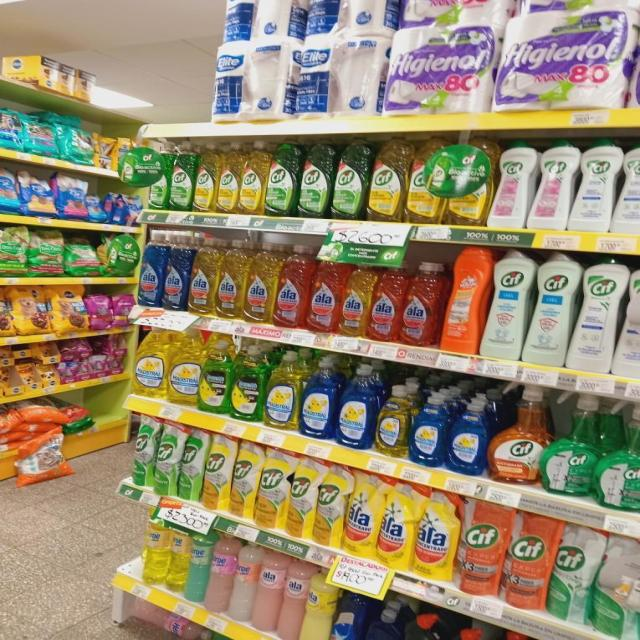ala_conc_amarillo: (246, 236, 276, 324), (217, 237, 246, 320), (341, 260, 371, 338), (190, 236, 217, 316)
ala_conc_azul: (164, 232, 189, 311), (139, 231, 164, 308)
ala_conc_rojo: (402, 261, 440, 347), (308, 250, 341, 334), (276, 243, 308, 329), (371, 260, 402, 342)
ala_crem_amarillo: (302, 569, 334, 640)
ala_crem_rosado: (254, 549, 280, 633), (280, 560, 304, 640)
ala_sachet_amarillo: (414, 487, 457, 581), (378, 480, 414, 570), (344, 473, 378, 559)
cif_conc_bot_amarilla: (369, 136, 406, 222), (407, 136, 441, 224), (241, 140, 266, 216), (218, 140, 240, 215), (195, 140, 217, 213)
cif_conc_botella_verde: (333, 136, 368, 220), (299, 137, 332, 219), (267, 139, 298, 217), (170, 140, 194, 212)
cif_conc_sachet_amarillo: (315, 461, 344, 548), (257, 446, 287, 530), (288, 456, 315, 540), (204, 434, 231, 512), (232, 439, 256, 520)
cif_conc_sachet_verde: (155, 420, 180, 497), (180, 427, 204, 502), (130, 416, 154, 488)
heroe: (231, 542, 255, 623), (209, 532, 232, 614), (144, 515, 170, 587), (188, 530, 210, 604)
magistral_con_amarillo: (265, 351, 300, 432), (133, 329, 168, 398), (377, 384, 409, 458), (168, 333, 200, 407)
magistral_con_azul: (337, 364, 375, 449), (448, 396, 487, 475), (301, 356, 336, 440), (411, 392, 446, 467), (360, 600, 401, 640)
